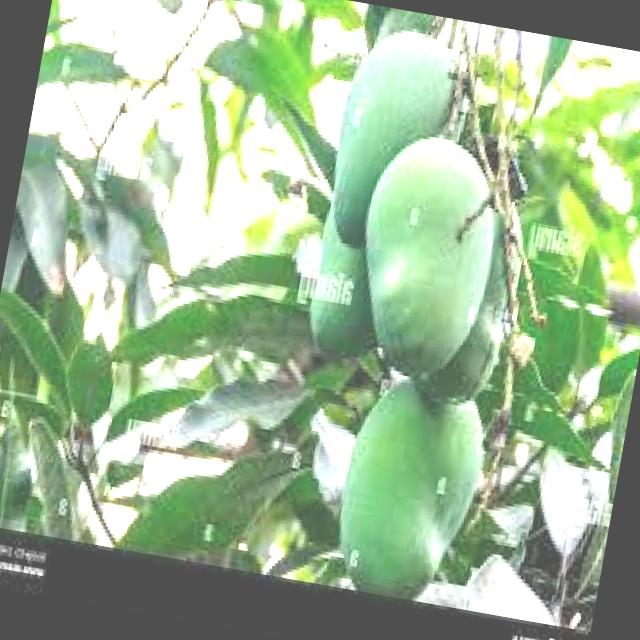Mango: (344, 126, 514, 382), (326, 364, 494, 606), (313, 23, 480, 264), (301, 207, 394, 364)
